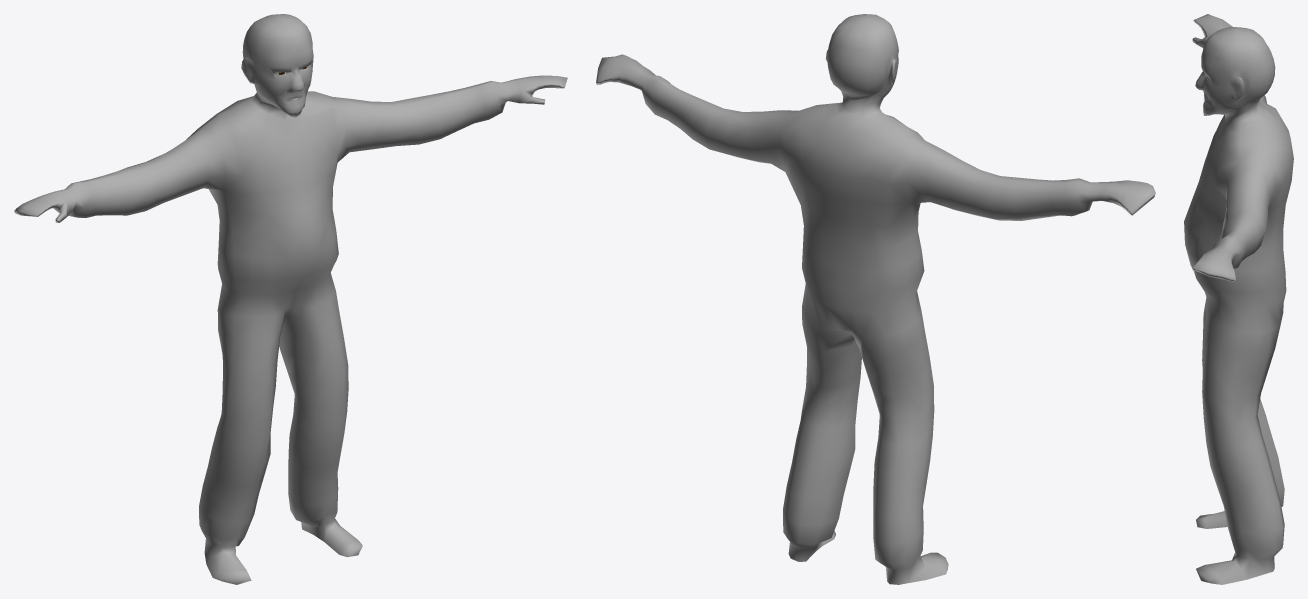
The model's file is atalpriggeduv.fbx.
The picture shows the model from 3 angles, left to right: view 1: azimuth 30°, elevation 25°; view 2: azimuth 150°, elevation 25°; view 3: azimuth 270°, elevation 25°; orthographic projection. The views are drawn at different scales.
Parts seen in each view (by area): view 1: polySurface5; view 2: polySurface5; view 3: polySurface5.
Part boxes in pixels (x1,y1,x2,y2): polySurface5: (14,14,567,584); polySurface5: (596,14,1155,584); polySurface5: (1184,14,1293,584).
Bounding box in the file's own units: 207 × 195 × 37.22.
